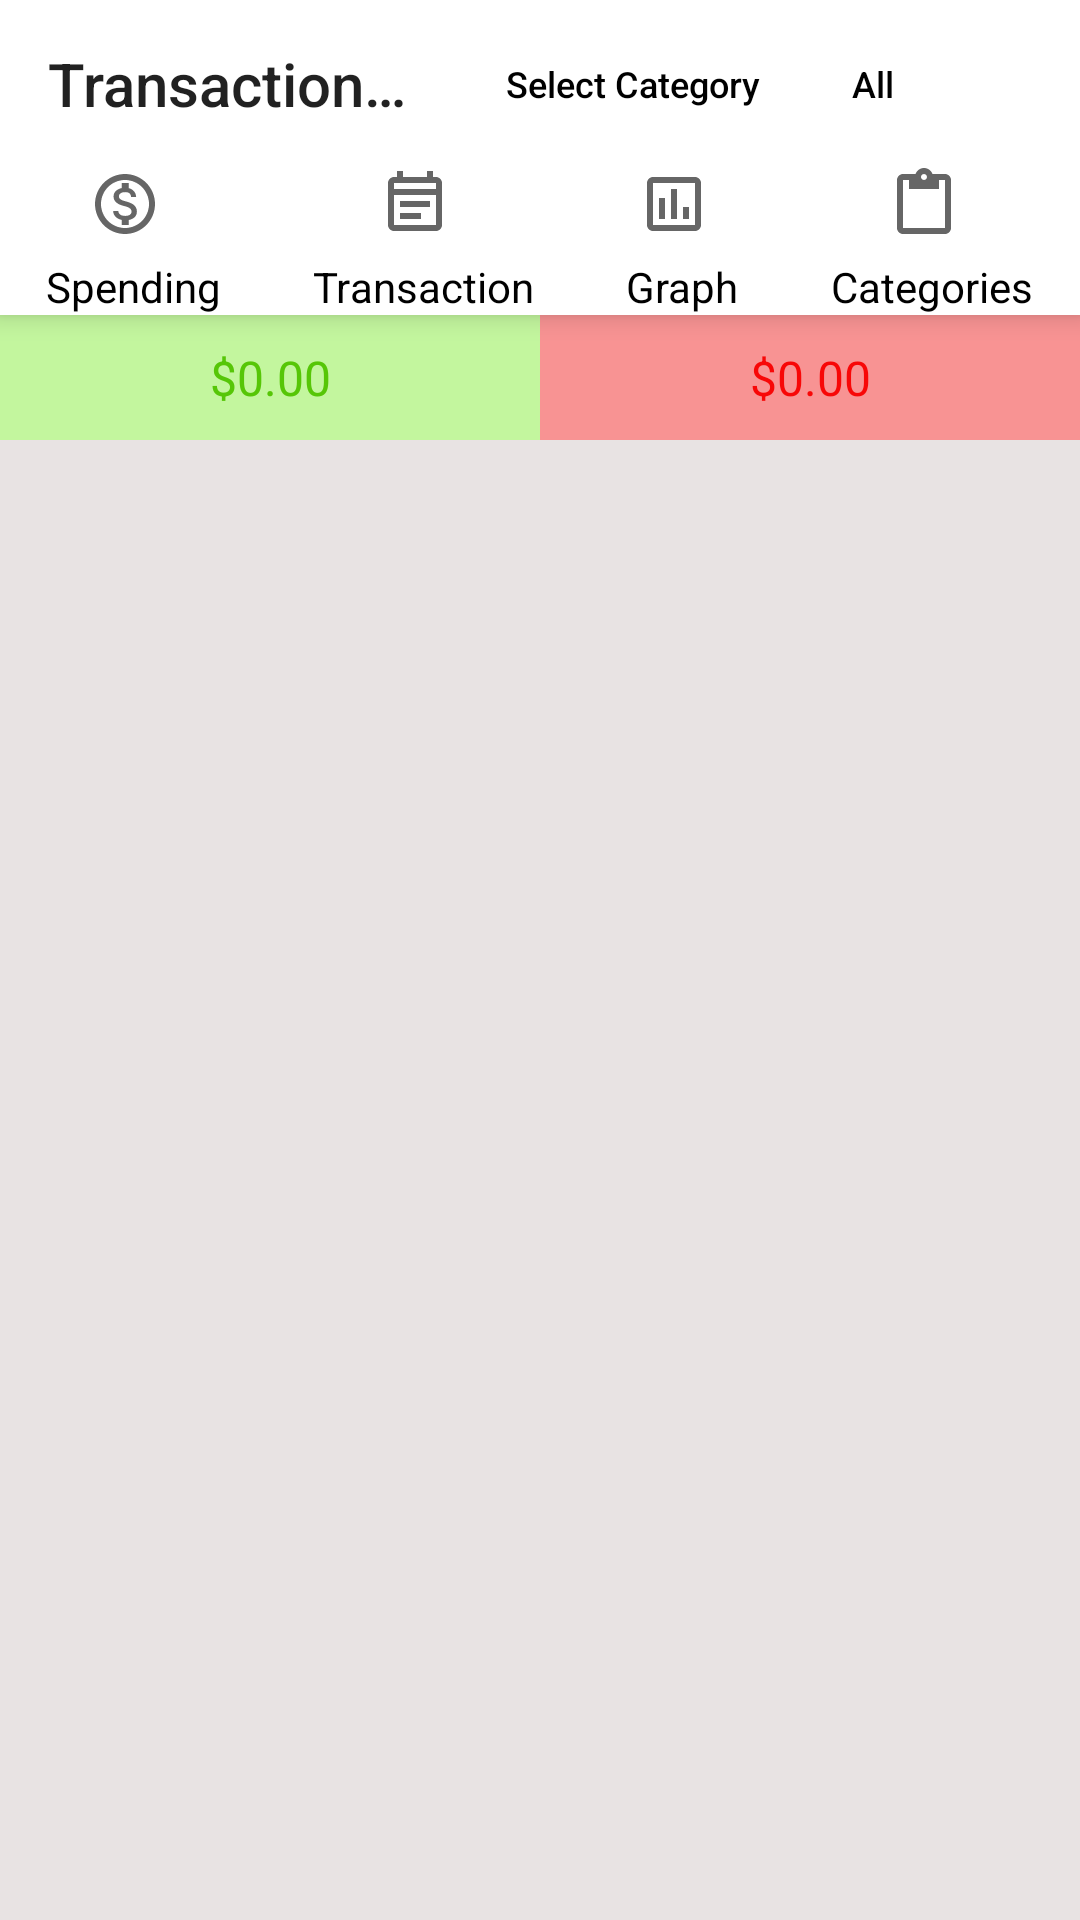

Where to tap for icons on this 1080 × 1920 app screen, as (x=x, y=y):
content paste: (x=924, y=201)
event note: (x=415, y=201)
insert chart: (x=674, y=204)
monetization on: (x=125, y=204)
